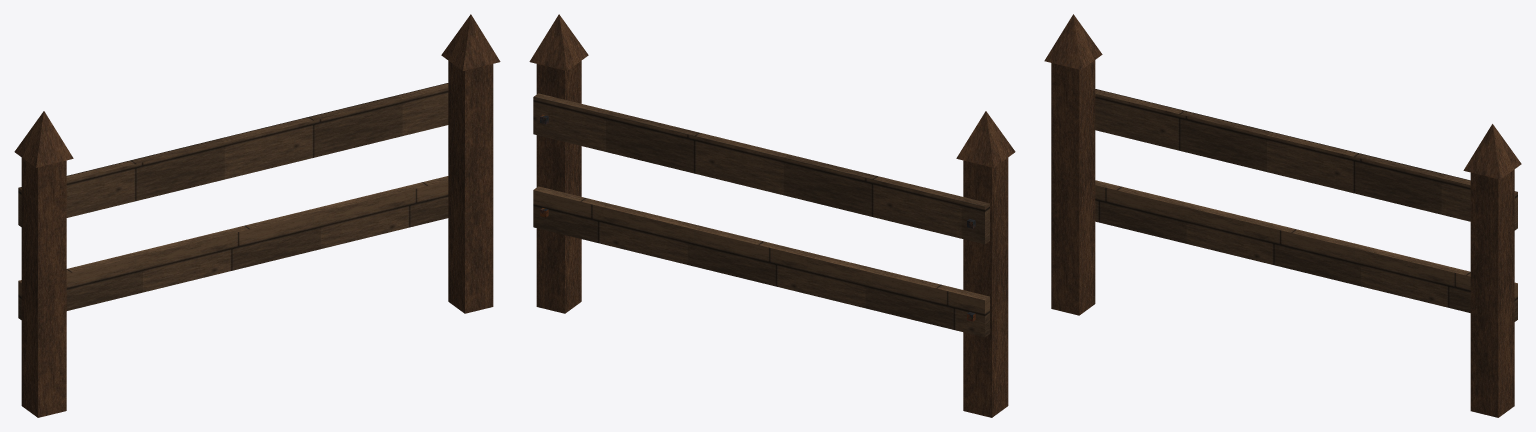
File: fence_wood_a.glb
3 renders of one model, left to right at view 1: azimuth 30°, elevation 25°; view 2: azimuth 150°, elevation 25°; view 3: azimuth 330°, elevation 25°, orthographic.
Parts seen in each view (by area): view 1: fence_wood_a; view 2: fence_wood_a; view 3: fence_wood_a.
Part boxes in pixels (x1=…): fence_wood_a: x1=14, y1=14, x2=500, y2=417; fence_wood_a: x1=529, y1=14, x2=1015, y2=417; fence_wood_a: x1=1044, y1=14, x2=1521, y2=417.
Bounding box in the file's own units: 2.61 × 1.6 × 0.261.
3 materials, 3 textured.
